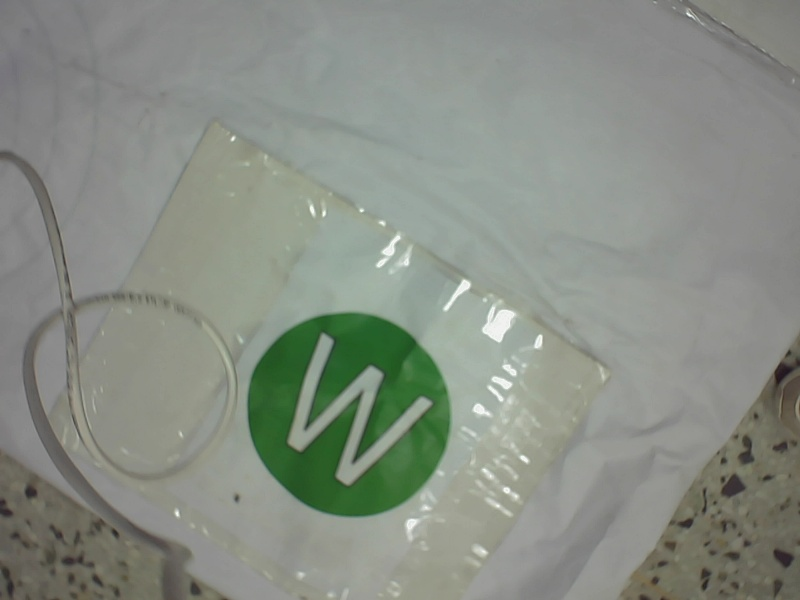areaB: (241, 309, 464, 525)
